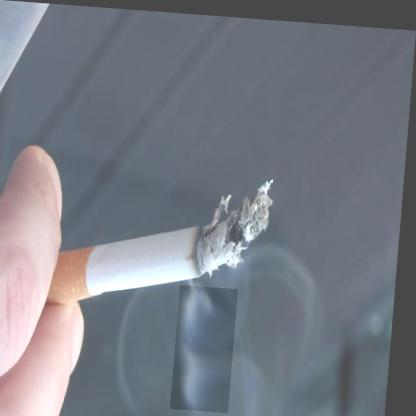smoke: (177, 282, 243, 409)
